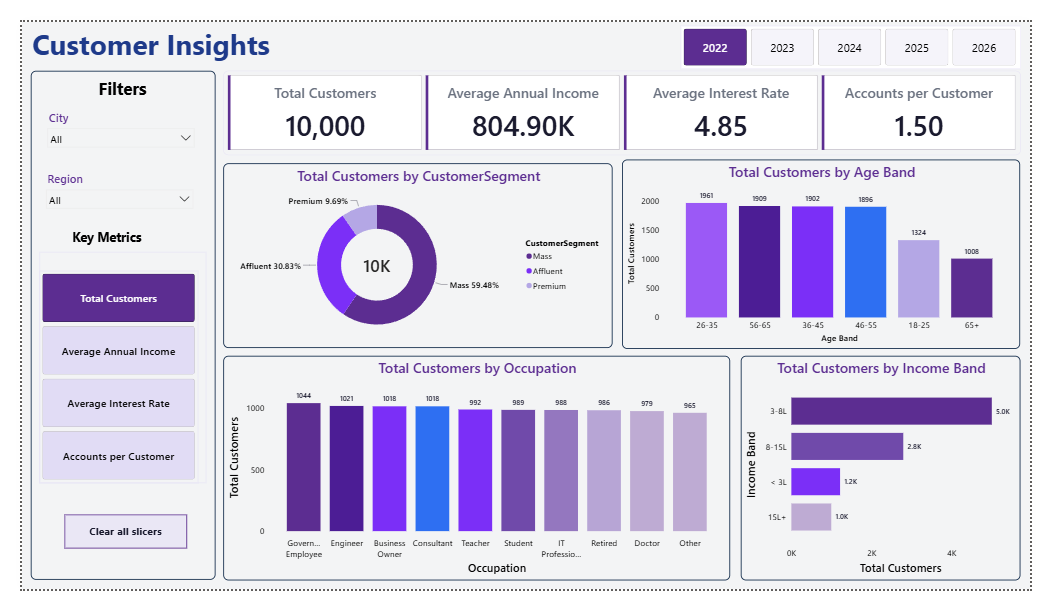

What the dashboard file says about the page in this screenshot:
{"tool":"powerbi","page":{"name":"Customer Insights","canvas":[1920,1080],"ordinal":1},"visuals":[{"type":"textbox","box":[15.2,0,526.1,93.5],"z":0},{"type":"cardVisual","fields":{"Data":["Measures Table.Total Customers","Measures Table.Average Annual Income","Measures Table.Average Interest Rate","Measures Table.Accounts per Customer"]},"box":[382.6,93.5,1519.6,160.9],"z":1000},{"type":"shape","box":[16.5,92.6,352.2,969.6],"z":2000},{"type":"advancedSlicerVisual","box":[33.3,437.8,317.8,440],"z":3000},{"type":"donutChart","fields":{"Category":["DimCustomer.CustomerSegment"],"Y":["Measures Table.Total Customers"]},"box":[382.6,269.6,741.3,352.2],"z":4000},{"type":"textbox","box":[91.1,388.9,191.4,49.4],"z":5000},{"type":"slicer","fields":{"Values":["DimBranch.City"]},"box":[37,160.9,300,111.1],"z":6000},{"type":"slicer","fields":{"Values":["DimBranch.Region"]},"box":[34.8,278.3,300,111.1],"z":7000},{"type":"advancedSlicerVisual","fields":{"Values":["Customer KPIS.Customer KPIS"]},"box":[33.3,473.3,302.2,404.4],"z":8000},{"type":"clusteredColumnChart","fields":{"Category":["DimCustomer.Occupation"],"Y":["Measures Table.Total Customers"]},"box":[382.6,634.8,965.2,428.3],"z":9000},{"type":"clusteredBarChart","fields":{"Category":["DimCustomer.Income Band"],"Y":["Measures Table.Total Customers"]},"box":[1369.6,634.8,532.6,428.3],"z":10000},{"type":"columnChart","fields":{"Category":["DimCustomer.Age Band"],"Y":["Measures Table.Total Customers"]},"box":[1143.5,260.9,758.7,360.9],"z":11000},{"type":"textbox","box":[100,100,182.6,60.9],"z":12000},{"type":"actionButton","box":[81.1,938.9,233.3,64.4],"z":13000},{"type":"advancedSlicerVisual","fields":{"Values":["DimDate.Year"]},"box":[1254.3,6.5,647.8,82.6],"z":14000}]}

Visuals, with their boxes in screenshot pixels (x1, y1, x2, y2), scaled from the page's 1920x1080 canvas onto the 1062x605 screenshot:
textbox: [8,0,299,52]
cardVisual - Measures Table.Total Customers x Measures Table.Average Annual Income: [212,52,1052,143]
shape: [9,52,204,595]
advancedSlicerVisual: [18,245,194,492]
donutChart - DimCustomer.CustomerSegment x Measures Table.Total Customers: [212,151,622,348]
textbox: [50,218,156,246]
slicer - DimBranch.City: [20,90,186,152]
slicer - DimBranch.Region: [19,156,185,218]
advancedSlicerVisual - Customer KPIS.Customer KPIS: [18,265,186,492]
clusteredColumnChart - DimCustomer.Occupation x Measures Table.Total Customers: [212,356,746,596]
clusteredBarChart - DimCustomer.Income Band x Measures Table.Total Customers: [758,356,1052,596]
columnChart - DimCustomer.Age Band x Measures Table.Total Customers: [632,146,1052,348]
textbox: [55,56,156,90]
actionButton: [45,526,174,562]
advancedSlicerVisual - DimDate.Year: [694,4,1052,50]
